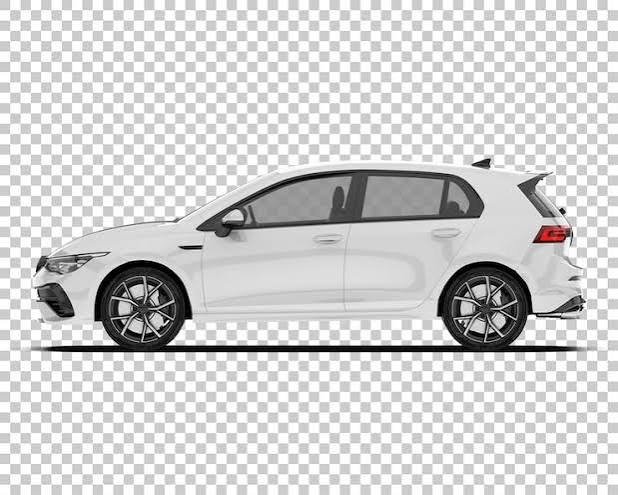car: (45, 161, 560, 343)
